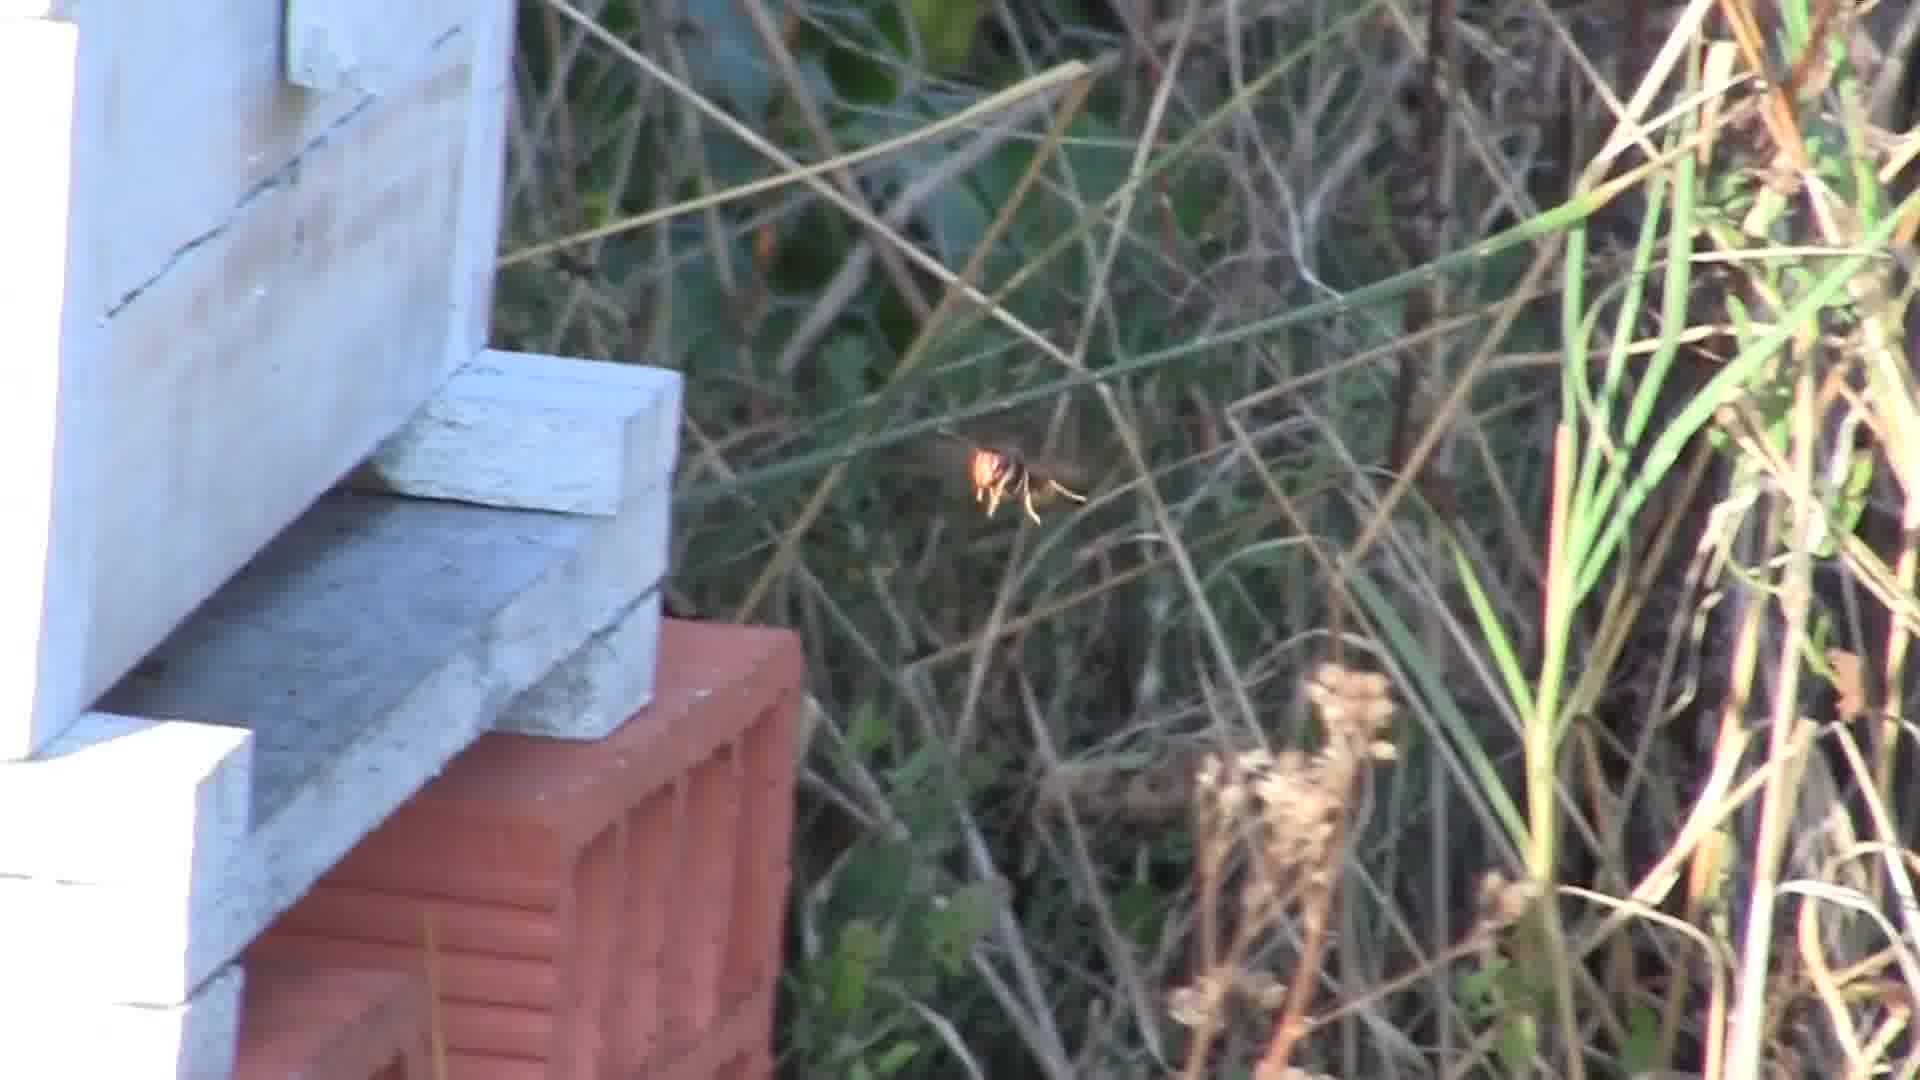hornet: (961, 436, 1085, 534)
